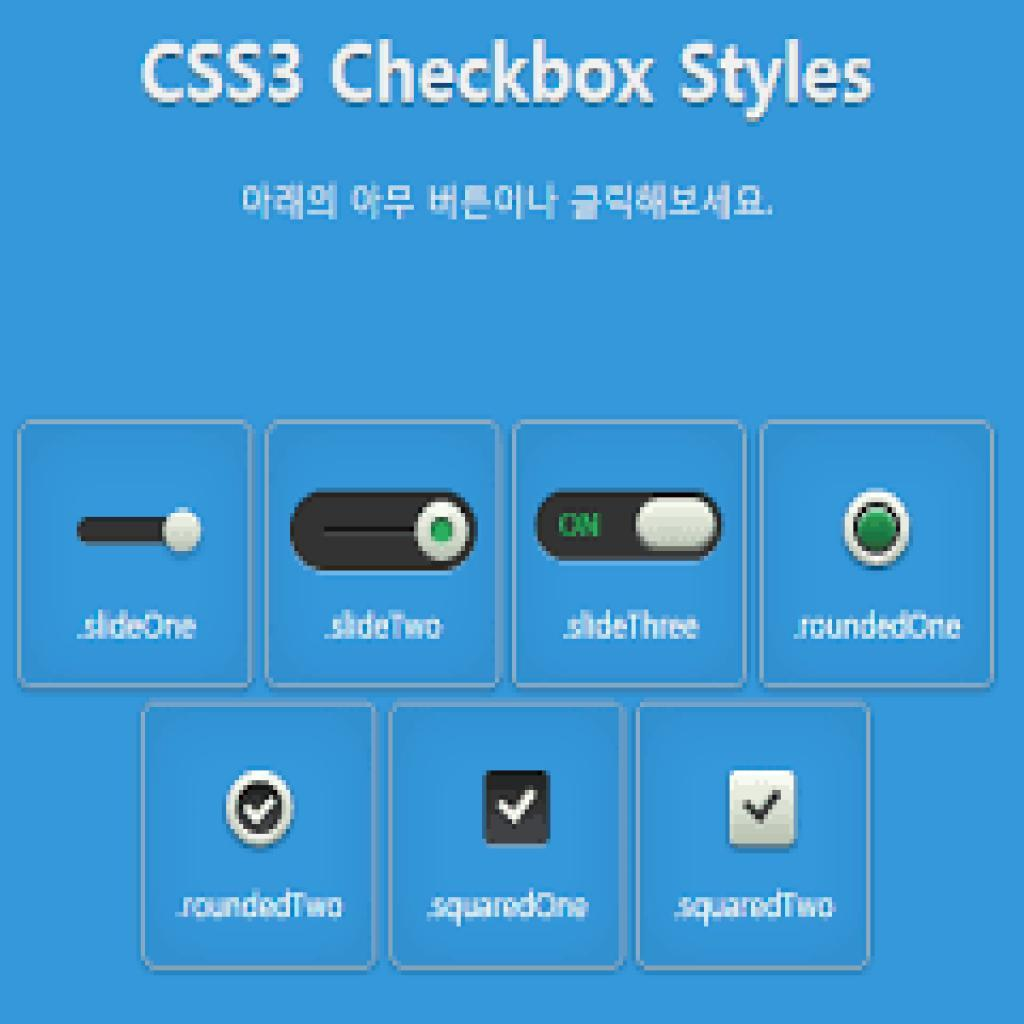checkbox: (728, 770, 800, 848), (484, 772, 554, 848)
radio: (225, 769, 299, 852), (843, 490, 912, 569)
switch: (289, 490, 481, 578), (537, 487, 728, 565), (77, 508, 205, 559)
